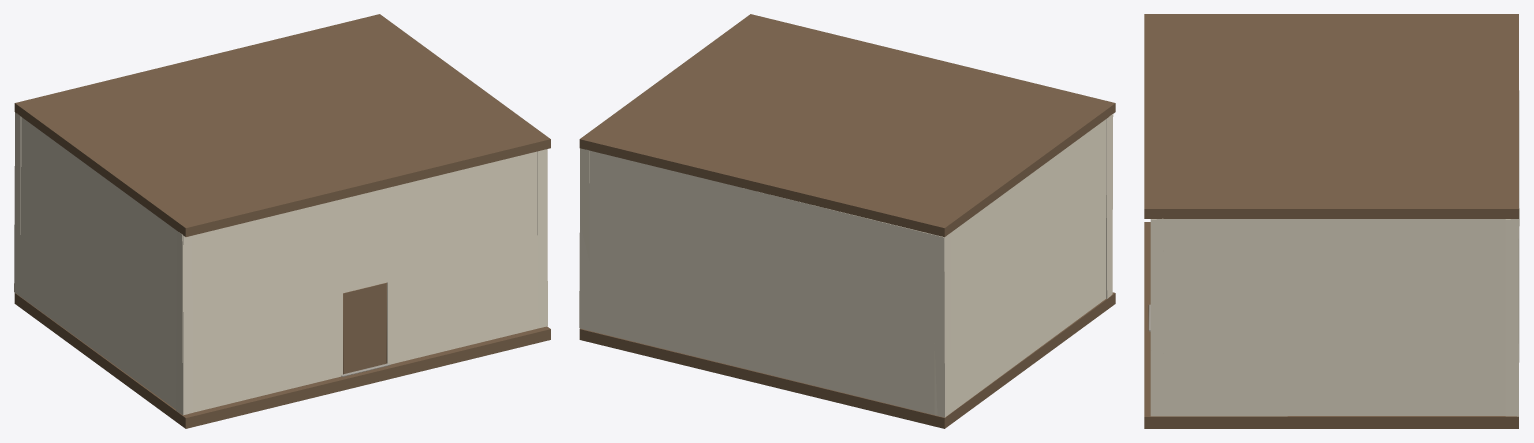
Rendered from int_tavern.glb.
3 renders of one model, left to right at view 1: azimuth 30°, elevation 25°; view 2: azimuth 150°, elevation 25°; view 3: azimuth 270°, elevation 25°, orthographic. The views are drawn at different scales.
Visible parts, largest first — view 1: int_tavern; view 2: int_tavern; view 3: int_tavern.
Part boxes in pixels (bbox=[...]): int_tavern: bbox=[14, 14, 550, 428]; int_tavern: bbox=[579, 14, 1115, 428]; int_tavern: bbox=[1144, 14, 1519, 428].
Size of what is drawn, in the model's own units: 10.63 by 5.57 by 8.61.
